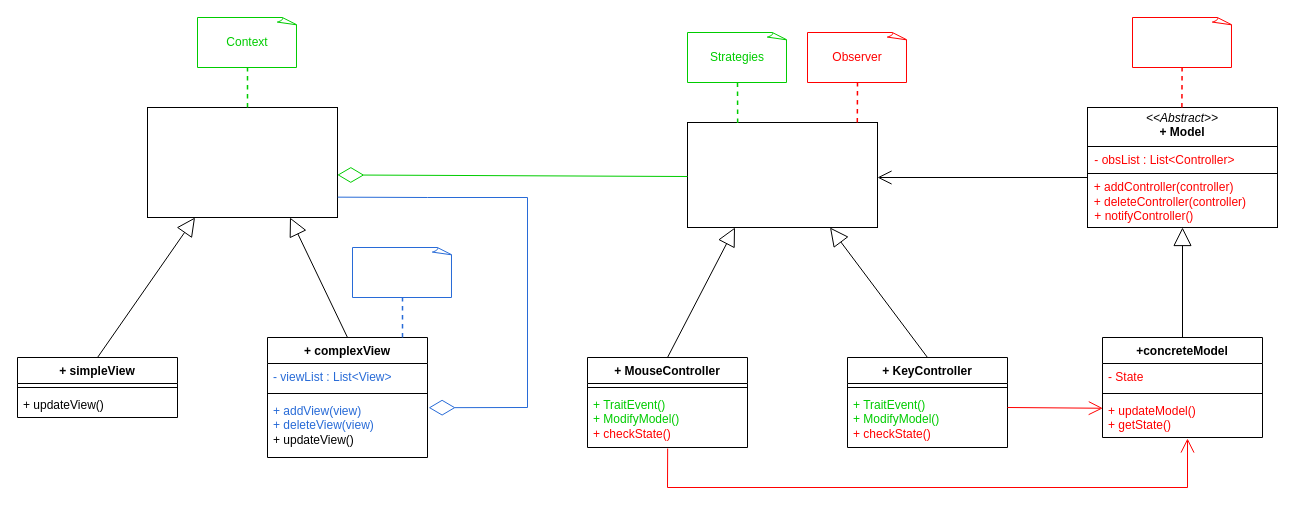
This 1295x519 diagram has some shape labels left out. The centre of each missing label's shape, as x and y in pixels:
"<<Abstract>> + Controller - view : View + TraitEvent() + notifyView()" belongs at pixel 782 175.
"<<Abstract>> + View - con : Controller + HandleEvent() + updateView()" belongs at pixel 242 162.
"Composite" belongs at pixel 402 272.
"Subject" belongs at pixel 1182 42.
